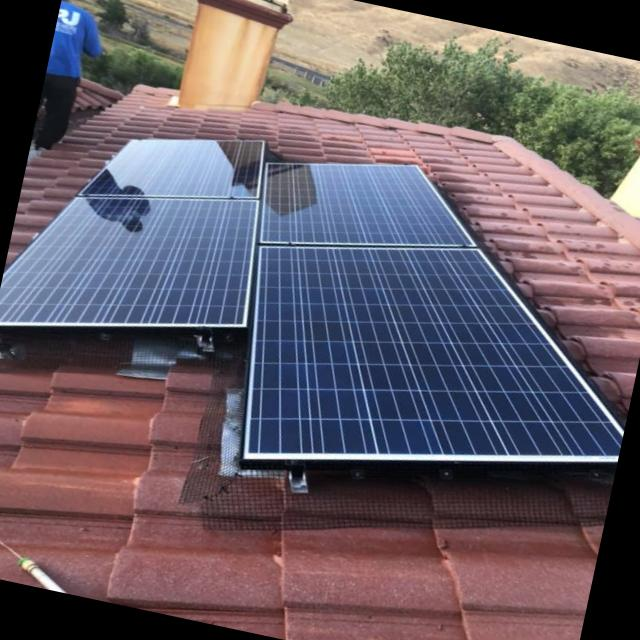no faulty: (0, 143, 622, 453)
